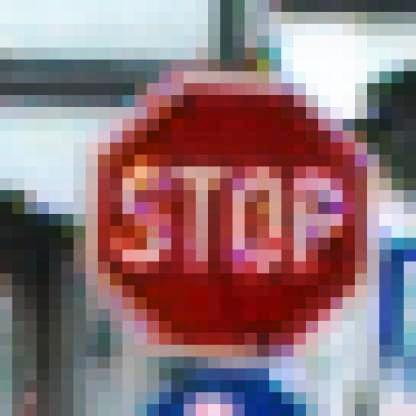Stop Sign: (82, 70, 384, 346)
